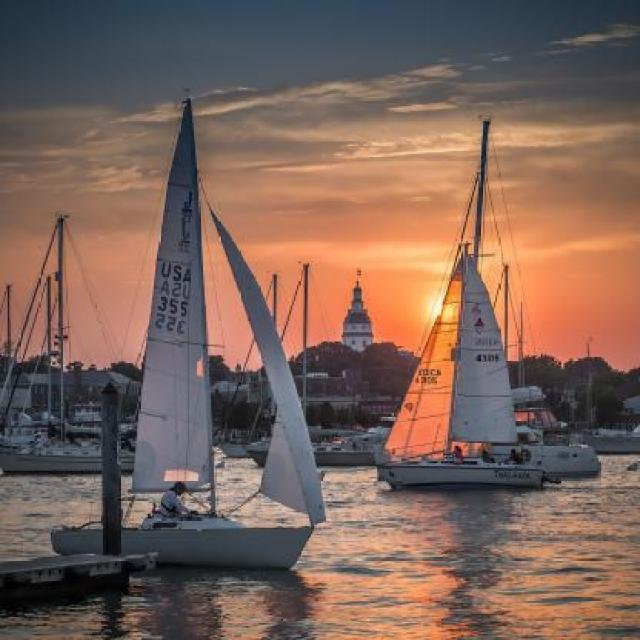ship: (50, 99, 328, 563), (374, 119, 548, 487), (0, 215, 143, 474), (241, 263, 382, 468), (489, 264, 600, 478), (214, 272, 334, 458), (580, 425, 638, 452)
